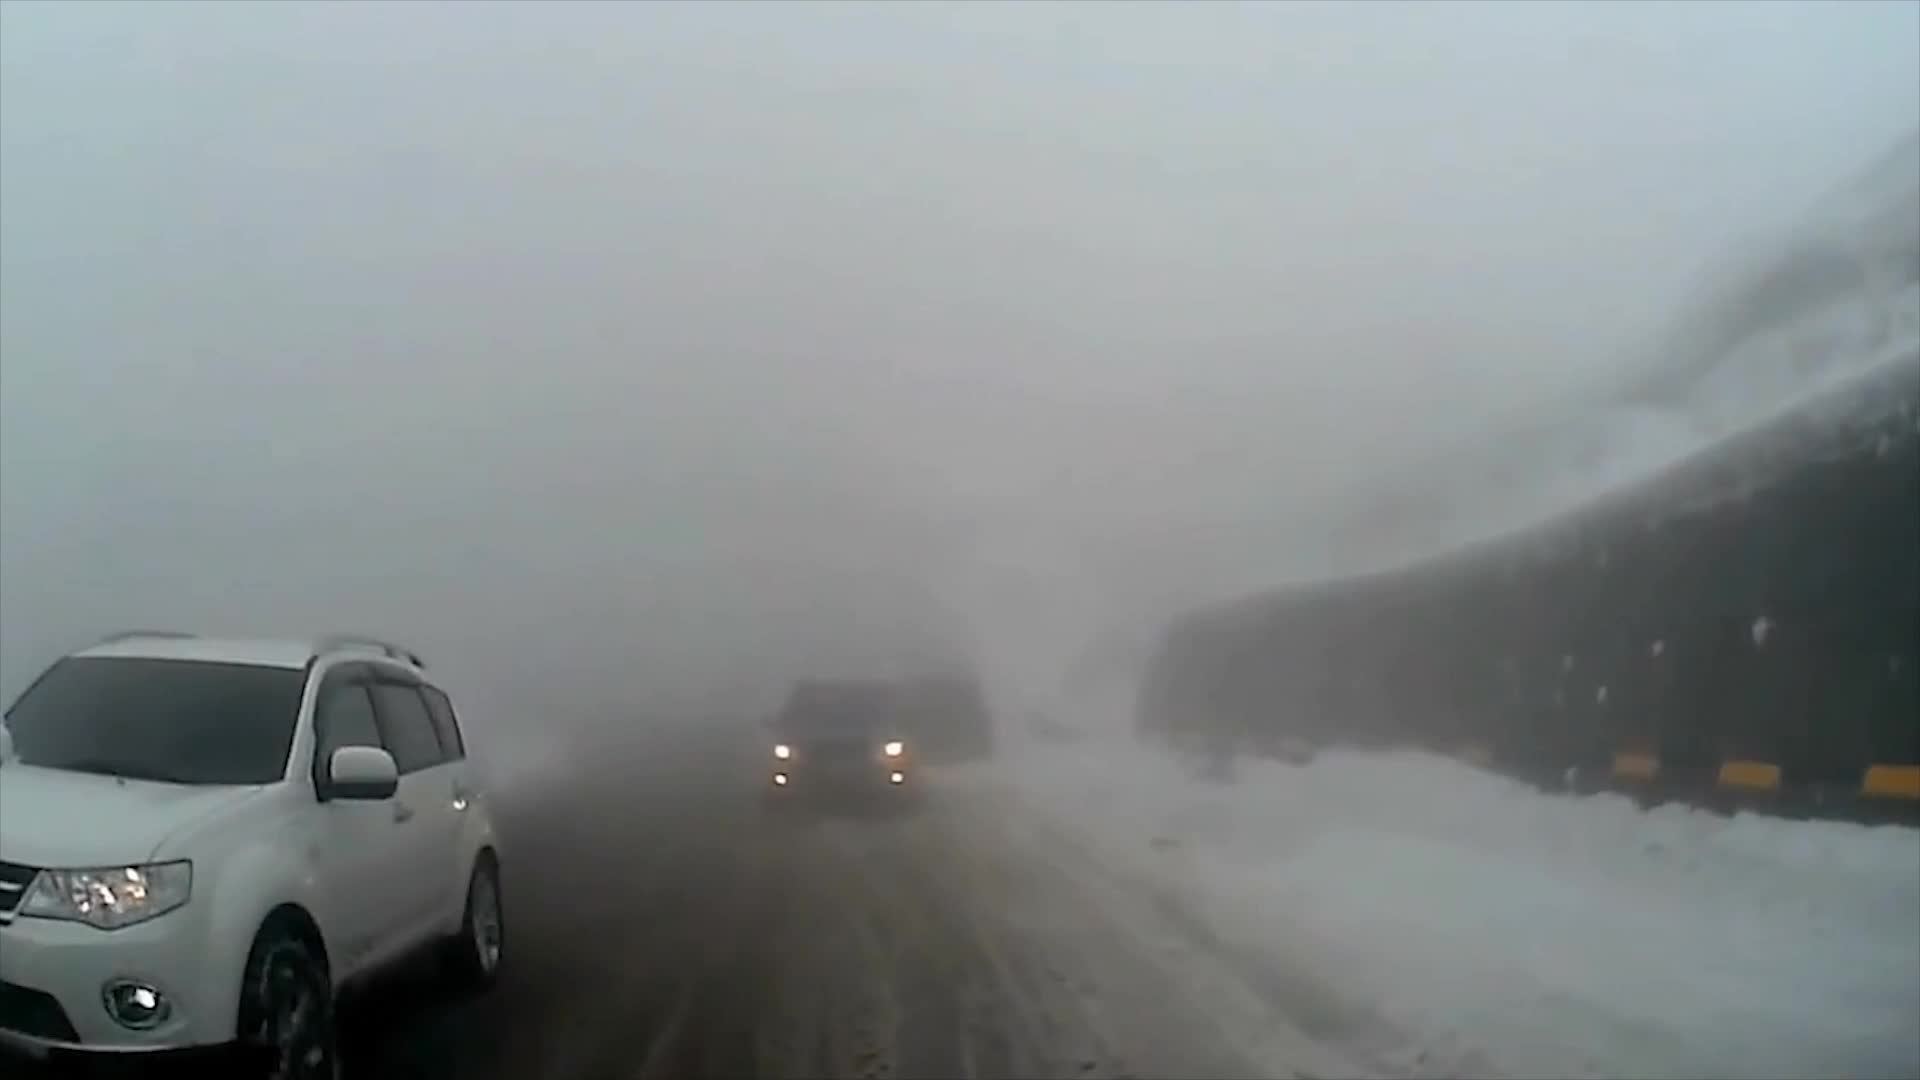vehicle: (0, 626, 512, 1080), (756, 675, 920, 818)
